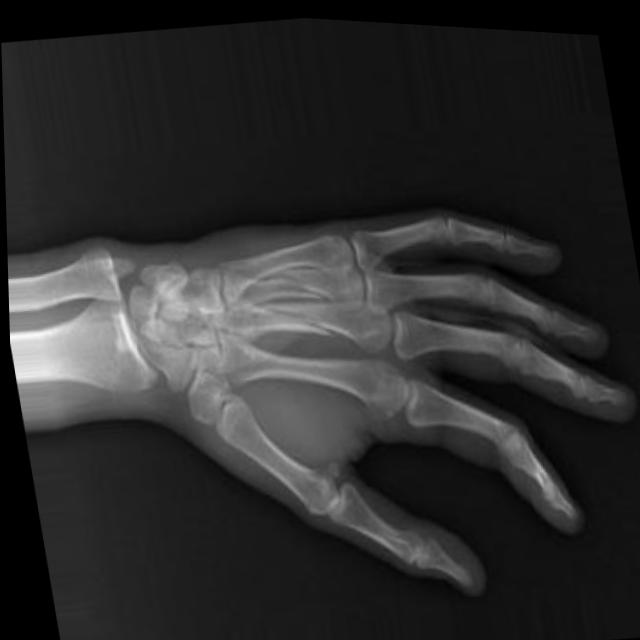fracture: (288, 268, 327, 303), (297, 304, 335, 339)
